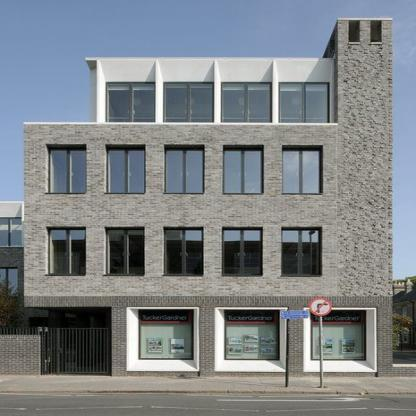Building Outline: (0, 17, 394, 377)
Door: (41, 328, 111, 374)
Facade: (0, 18, 394, 378)
Floor Slab: (24, 130, 393, 140), (24, 297, 393, 307), (24, 213, 393, 223)
Shop: (311, 310, 366, 358), (139, 310, 193, 358), (225, 310, 279, 358)
Sill: (370, 42, 381, 44), (349, 42, 360, 44)
Window: (303, 307, 376, 371), (126, 307, 199, 371), (215, 307, 287, 371), (107, 84, 155, 122), (165, 84, 213, 122), (280, 84, 327, 122), (223, 84, 270, 122), (283, 230, 320, 273), (283, 149, 320, 192), (166, 230, 202, 273), (225, 230, 261, 273), (166, 149, 202, 192), (225, 149, 261, 192), (109, 230, 144, 273), (50, 230, 85, 273), (109, 149, 144, 192), (50, 149, 85, 192), (370, 21, 381, 42), (349, 21, 360, 42)
